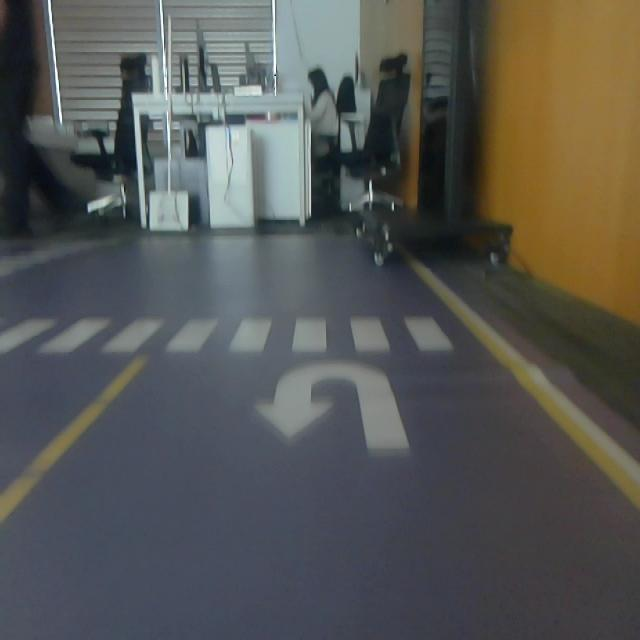left_lane: (0, 353, 144, 524)
right_lane: (402, 253, 640, 509)
